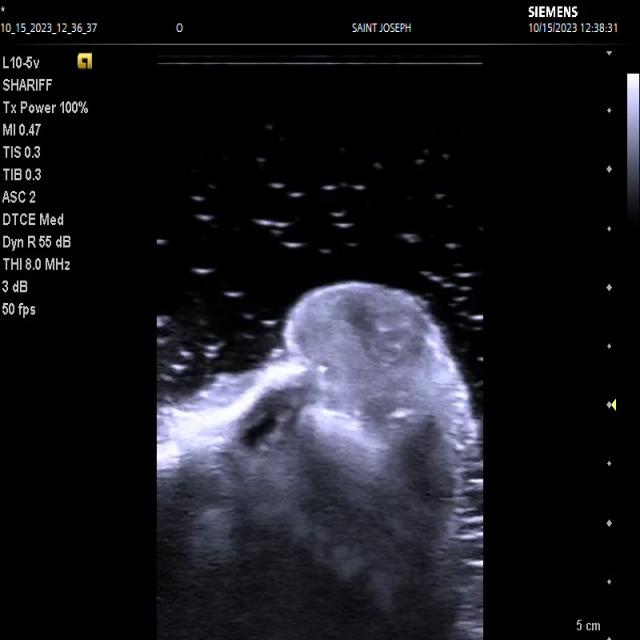tissue: (156, 283, 470, 640)
